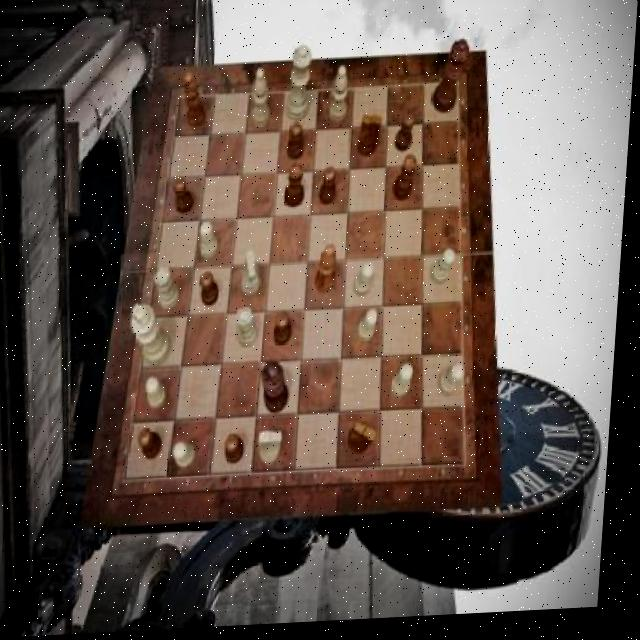bishop: (183, 74, 210, 131), (318, 247, 342, 297)
black-bishop: (264, 363, 294, 418)
black-king: (359, 118, 385, 161), (354, 423, 383, 459)
black-knight: (144, 429, 170, 462), (174, 180, 197, 216), (396, 118, 417, 157), (202, 274, 224, 309), (321, 171, 340, 209), (289, 124, 307, 163), (277, 315, 297, 349), (230, 437, 250, 467)
black-pawn: (433, 45, 471, 119)
black-queen: (394, 160, 420, 206), (285, 165, 308, 212)
black-rook: (253, 72, 274, 132), (330, 69, 351, 127)
white-bishop: (133, 304, 179, 370)
white-king: (244, 253, 268, 300), (264, 433, 289, 468)
white-knight: (434, 253, 460, 290), (443, 368, 469, 401), (149, 378, 174, 412), (200, 223, 222, 261), (395, 368, 418, 403), (361, 313, 383, 348), (358, 267, 379, 302), (178, 445, 202, 472)
white-pawn: (287, 49, 314, 126)
white-queen: (156, 267, 186, 312), (238, 310, 263, 351)
